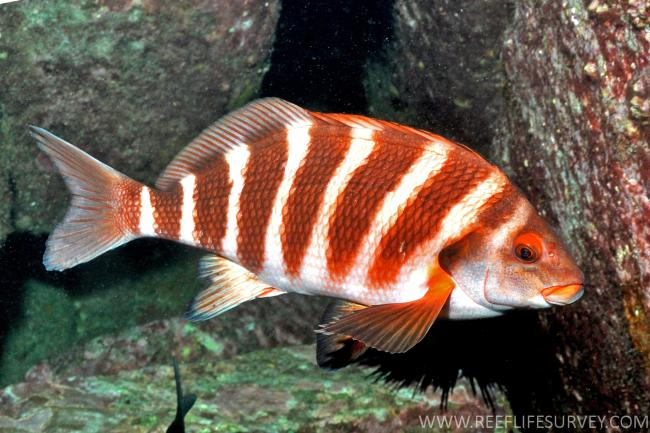fish: (28, 98, 585, 354)
